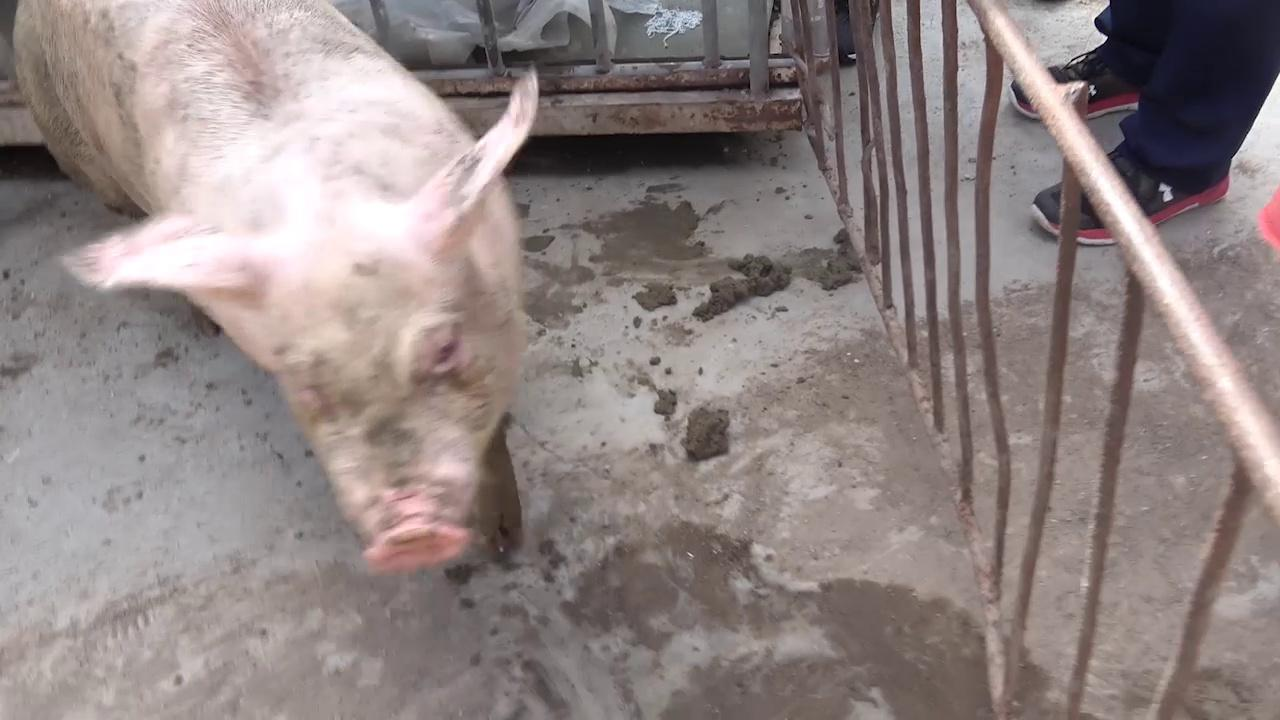Face: (35, 69, 576, 592)
